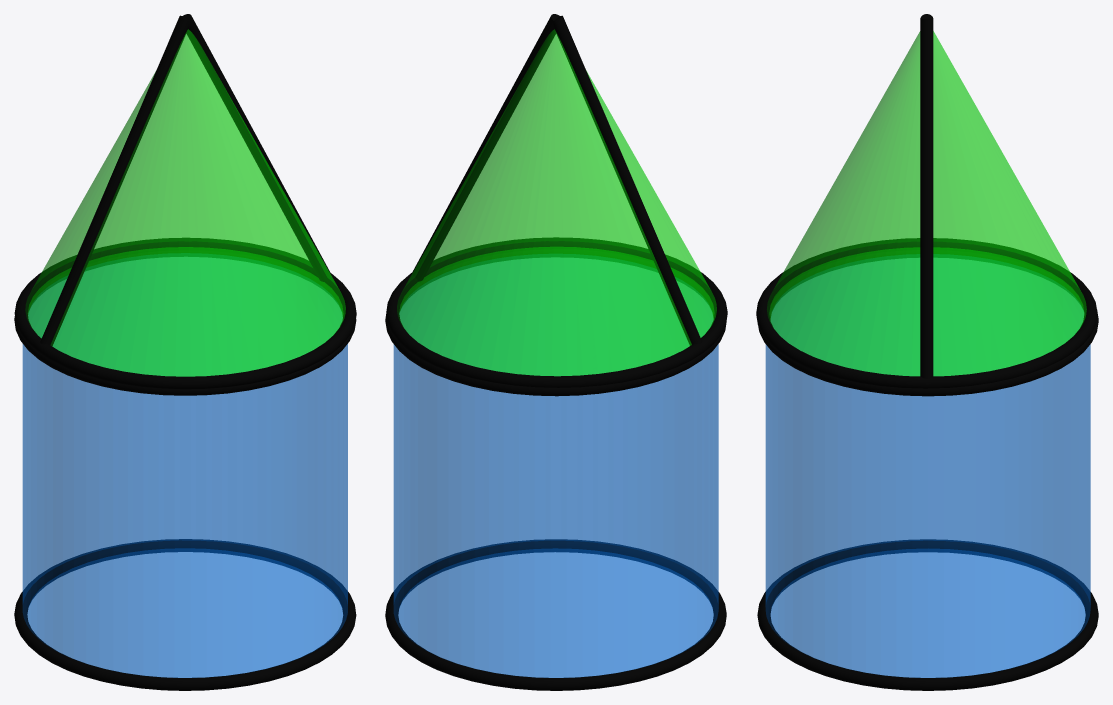
3 views of the same model, side by side, from view 1: azimuth 30°, elevation 25°; view 2: azimuth 150°, elevation 25°; view 3: azimuth 270°, elevation 25° (orthographic).
Parts seen in each view (by area): view 1: SideLine_180; view 2: SideLine_180; view 3: SideLine_180.
Part boxes in pixels (x1=…): SideLine_180: x1=14, y1=14, x2=356, y2=690; SideLine_180: x1=385, y1=14, x2=727, y2=690; SideLine_180: x1=756, y1=14, x2=1098, y2=690.
Size of the model in its own units: 210 by 410 by 211.
